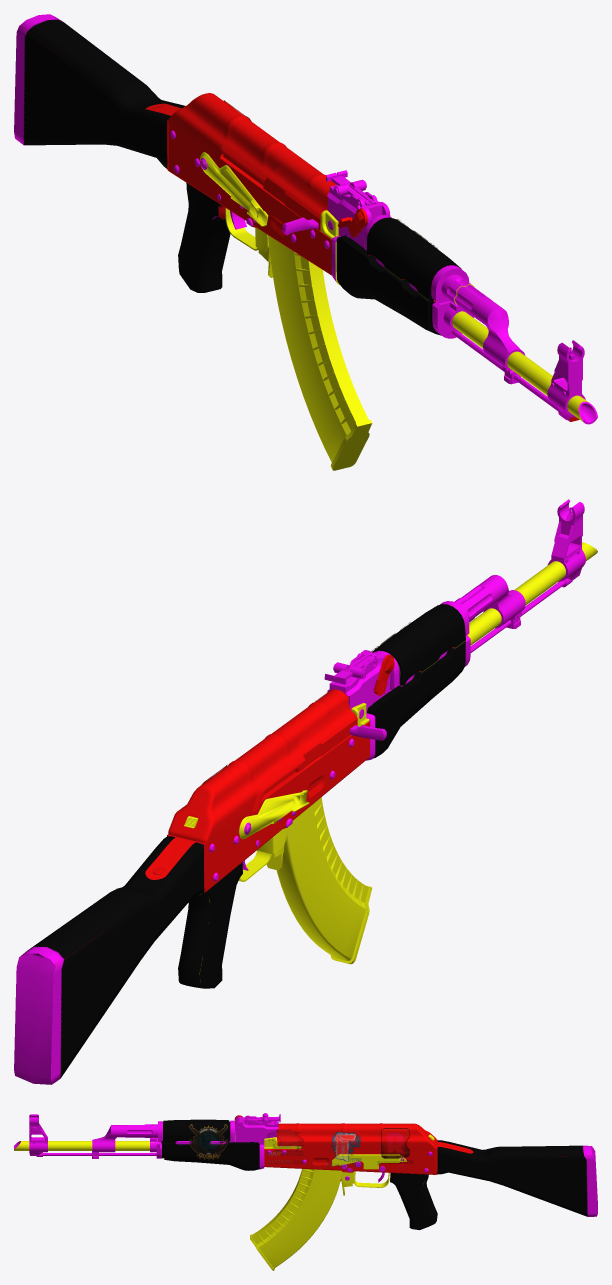
The picture shows the model from 3 angles, top to bottom: view 1: azimuth 30°, elevation 25°; view 2: azimuth 150°, elevation 25°; view 3: azimuth 270°, elevation 25°; orthographic projection. The views are drawn at different scales.
Visible parts, largest first — view 1: rif_ak47_decal_c; view 2: rif_ak47_decal_c; view 3: rif_ak47_decal_c.
Boxes of the visible parts, left/top/right/bottom form: rif_ak47_decal_c: left=14, top=14, right=597, bottom=470; rif_ak47_decal_c: left=14, top=499, right=597, bottom=1084; rif_ak47_decal_c: left=14, top=1113, right=597, bottom=1270.
Bounding box in the file's own units: 0.6453 × 2.36 × 8.15.
Materials: 5 (5 with a texture image).
